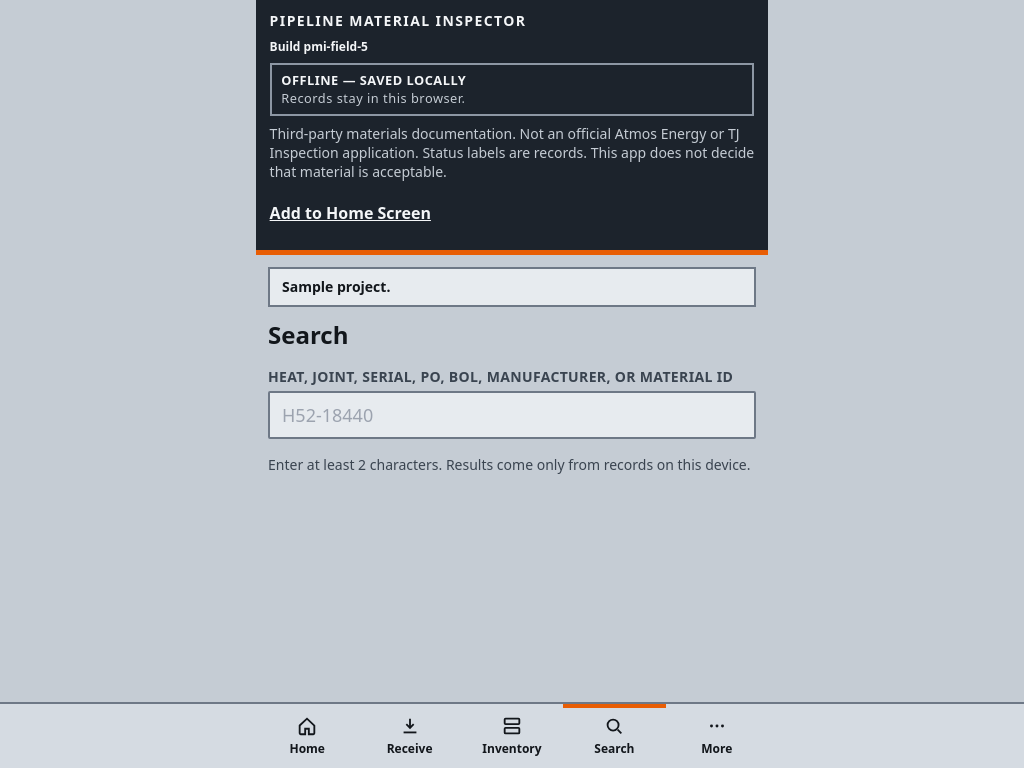
Test case: search from the search tab finds a joint
Type "J-1041" into the field labelled "Heat, joint, serial, PO, BOL, manufacturer, or Material ID" at (512, 415), box x1=268 y1=391 x2=756 y2=439
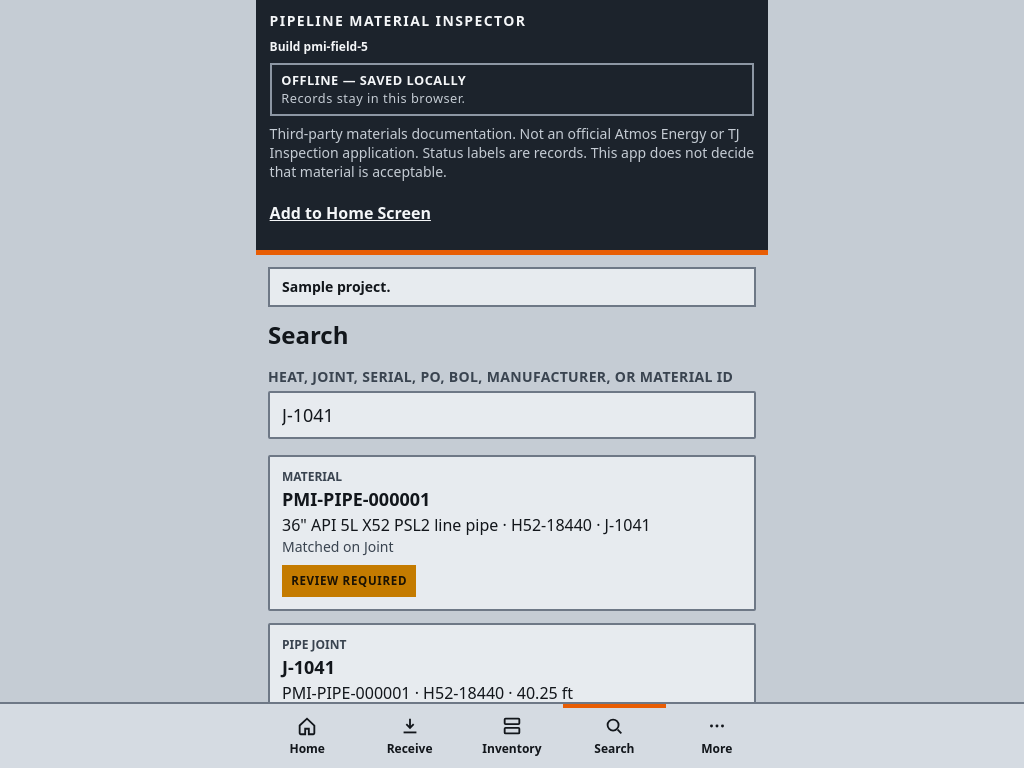
Now the text "PMI-PIPE-000001" is shown, box x1=282 y1=487 x2=430 y2=511
